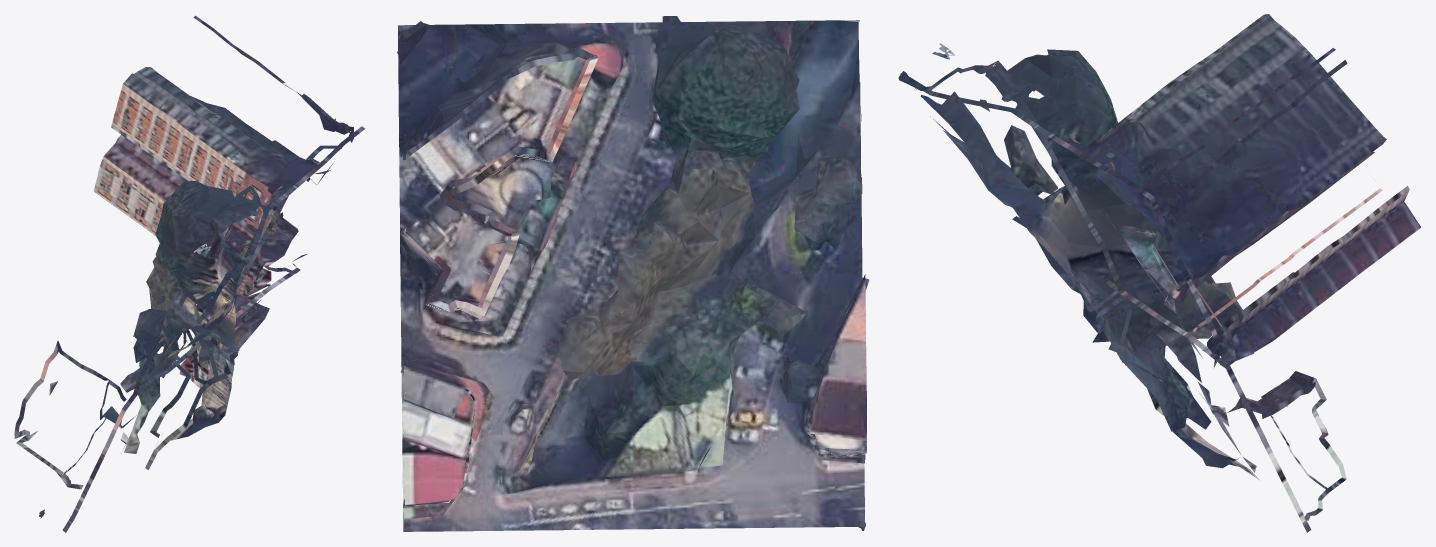
The picture shows the model from 3 angles, left to right: view 1: azimuth 30°, elevation 25°; view 2: azimuth 150°, elevation 25°; view 3: azimuth 270°, elevation 25°; orthographic projection. The views are drawn at different scales.
Size of the model in its own units: 81.86 by 87.81 by 88.11.
Materials: 2 (2 with a texture image).
